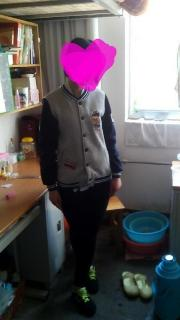long sleeve top: (39, 84, 123, 191)
trousers: (60, 169, 111, 286)
